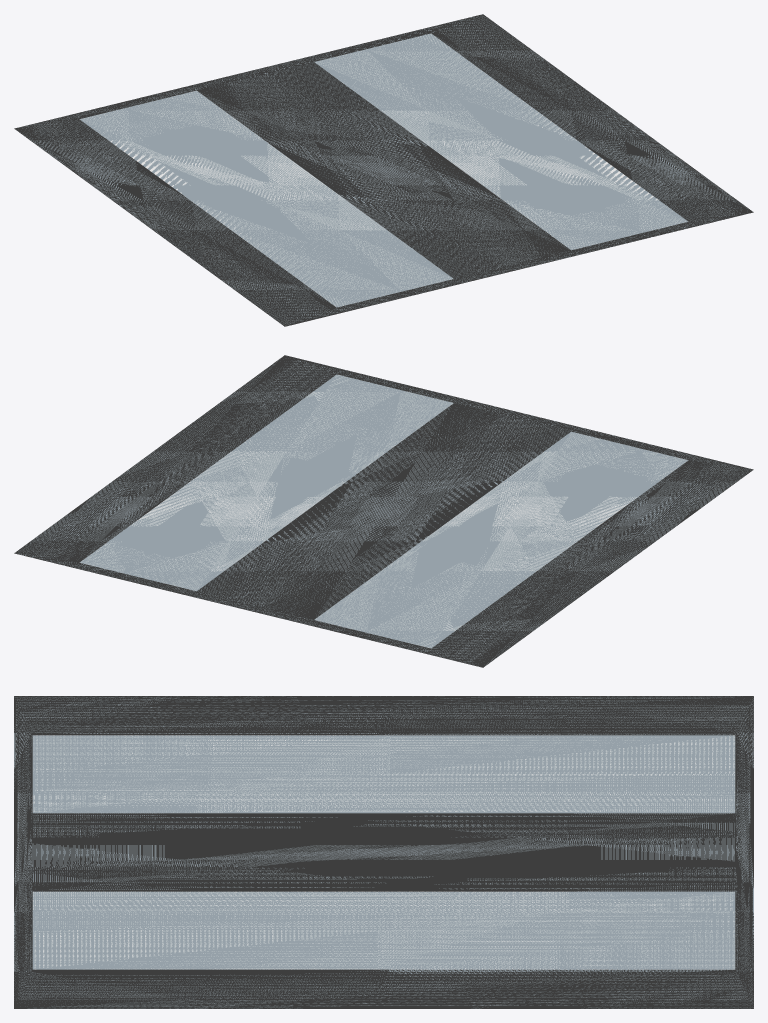
File: zebra_crossing.fbx
The picture shows the model from 3 angles, top to bottom: view 1: azimuth 30°, elevation 25°; view 2: azimuth 150°, elevation 25°; view 3: azimuth 270°, elevation 25°; orthographic projection. The views are drawn at different scales.
Parts seen in each view (by area): view 1: Model; view 2: Model; view 3: Model.
Part boxes in pixels (x1=…): Model: x1=14, y1=14, x2=753, y2=326; Model: x1=14, y1=355, x2=753, y2=667; Model: x1=14, y1=696, x2=753, y2=1008.
Bounding box in the file's own units: 4 × 0 × 4.
